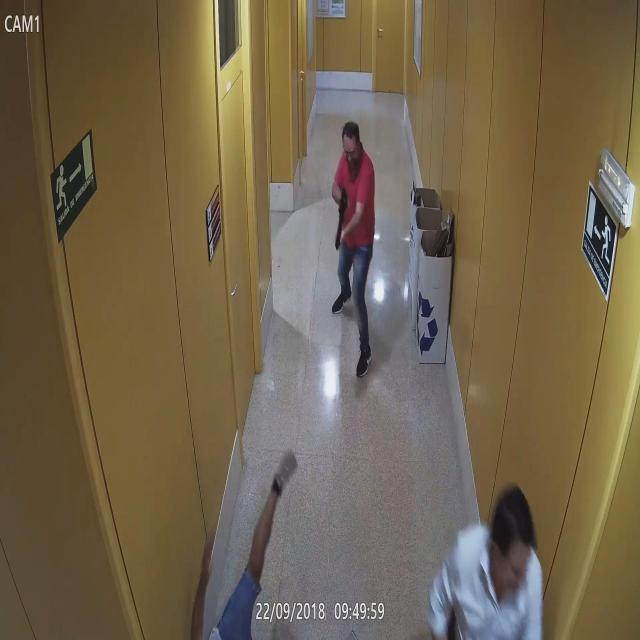pistol: (334, 180, 348, 256)
